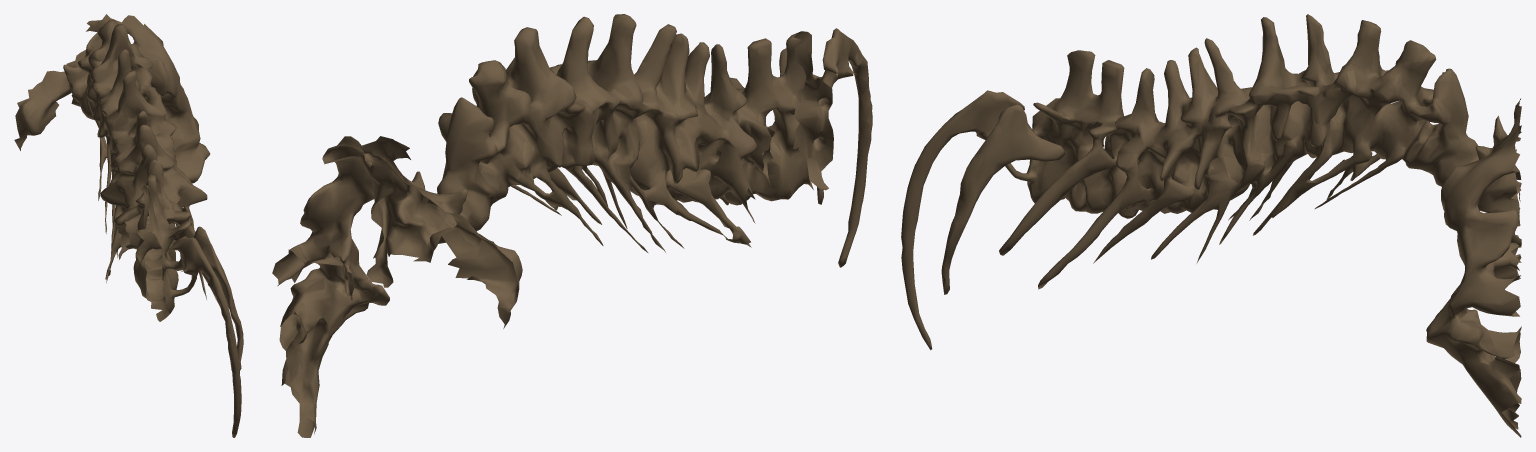
File: Trex_Neck.fbx
3 renders of one model, left to right at view 1: azimuth 30°, elevation 25°; view 2: azimuth 150°, elevation 25°; view 3: azimuth 270°, elevation 25°, orthographic. The views are drawn at different scales.
Parts seen in each view (by area): view 1: Trex_Neck; view 2: Trex_Neck; view 3: Trex_Neck.
Part boxes in pixels (x1,y1,x2,y2): Trex_Neck: (14, 14, 243, 437); Trex_Neck: (272, 14, 872, 437); Trex_Neck: (901, 14, 1521, 437).
Bounding box in the file's own units: 0.1362 × 0.1706 × 0.2645.
1 material, 1 textured.
